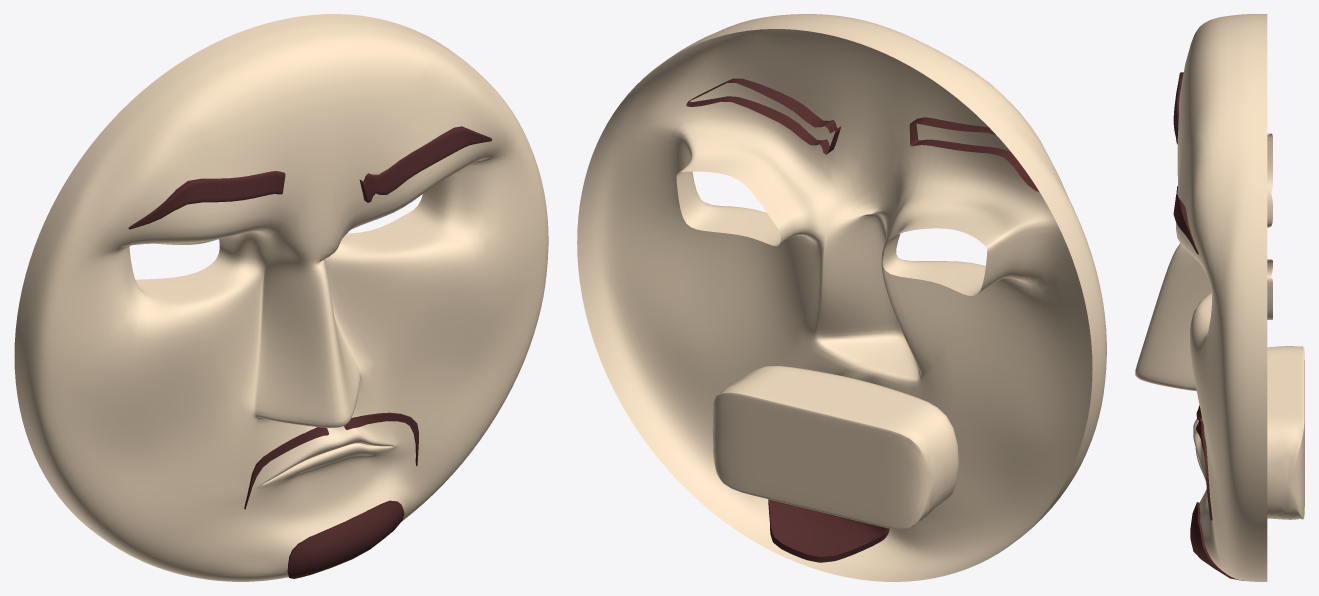
Rendered from Snooty.obj.
3 views of the same model, side by side, from view 1: azimuth 30°, elevation 25°; view 2: azimuth 150°, elevation 25°; view 3: azimuth 270°, elevation 25° (orthographic). The views are drawn at different scales.
Parts seen in each view (by area): view 1: Circle.042_Circle.069; view 2: Circle.042_Circle.069; view 3: Circle.042_Circle.069.
Part boxes in pixels (x1=…): Circle.042_Circle.069: x1=14, y1=14, x2=548, y2=581; Circle.042_Circle.069: x1=577, y1=14, x2=1106, y2=581; Circle.042_Circle.069: x1=1135, y1=14, x2=1304, y2=581.
Bounding box in the file's own units: 50.64 × 50.7 × 15.12.
